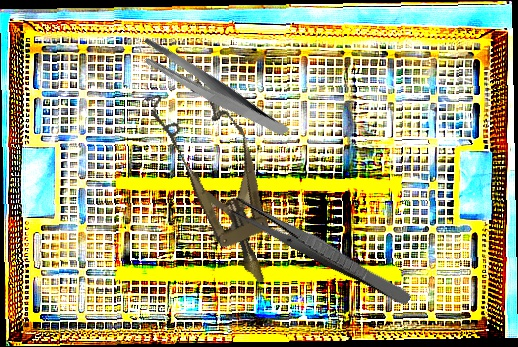Dressing Forceps: (134, 10, 290, 169), (227, 194, 416, 308)
Speculum: (143, 68, 299, 298)
